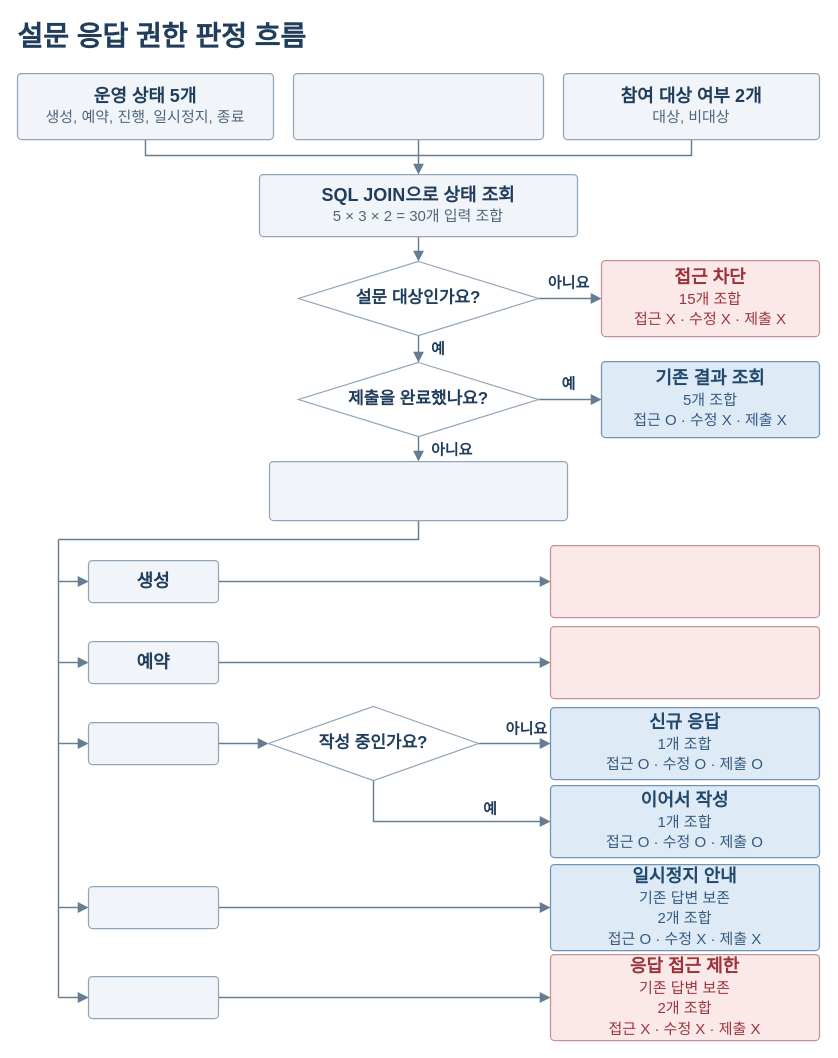
Some shapes in this 838 by 1058 pixel diagram are drawn without their labels. The box of each missing label's shape, as (x1, y1, x2, y2) in pixels:
설문 운영 상태 확인 미응답 또는 작성 중: (268, 460, 568, 521)
시작 전 접근 제한 2개 조합 접근 X · 수정 X · 제출 X: (549, 625, 820, 699)
운영 전 접근 제한 2개 조합 접근 X · 수정 X · 제출 X: (549, 544, 820, 618)
응답 상태 3개 미응답, 작성 중, 제출 완료: (292, 72, 544, 140)
일시정지: (87, 885, 219, 929)
종료: (87, 975, 219, 1019)
진행: (87, 721, 219, 765)
